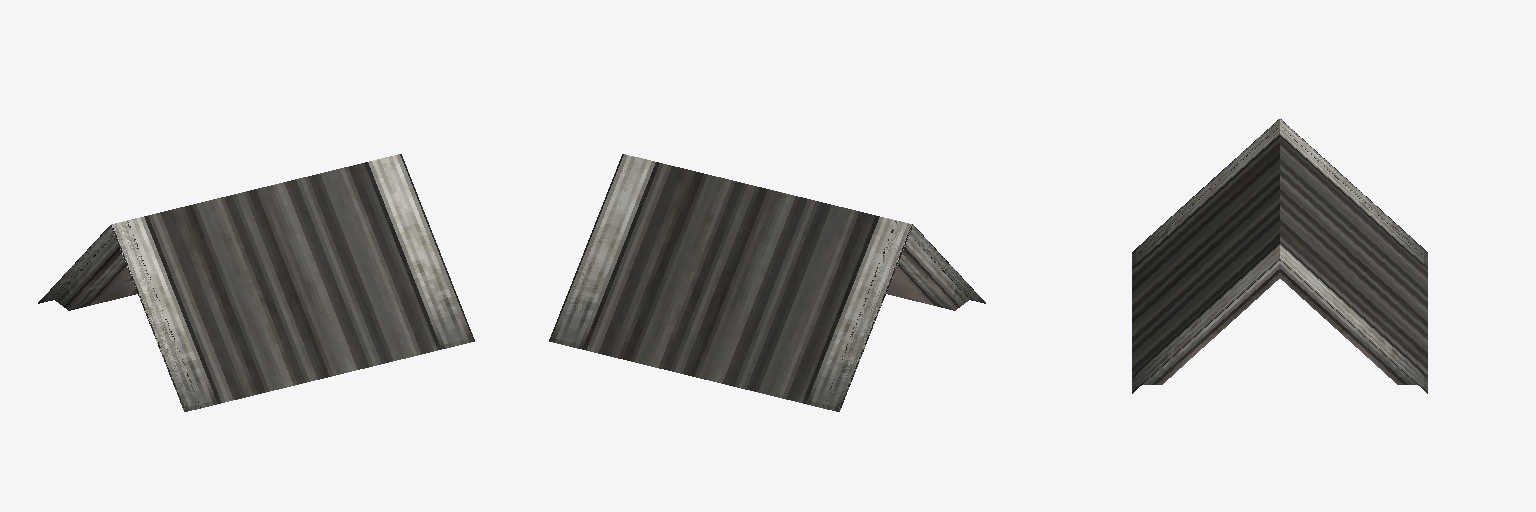
3 views of the same model, side by side, from view 1: azimuth 30°, elevation 25°; view 2: azimuth 150°, elevation 25°; view 3: azimuth 270°, elevation 25° (orthographic).
Visible parts, largest first — view 1: roofMetal_typeB; view 2: roofMetal_typeB; view 3: roofMetal_typeB.
Part boxes in pixels (x1,y1,x2,y2): roofMetal_typeB: (38, 154, 474, 411); roofMetal_typeB: (549, 154, 985, 411); roofMetal_typeB: (1132, 119, 1427, 393).
Size of the model in its own units: 1.14 by 0.5 by 1.
Materials: 3 (3 with a texture image).